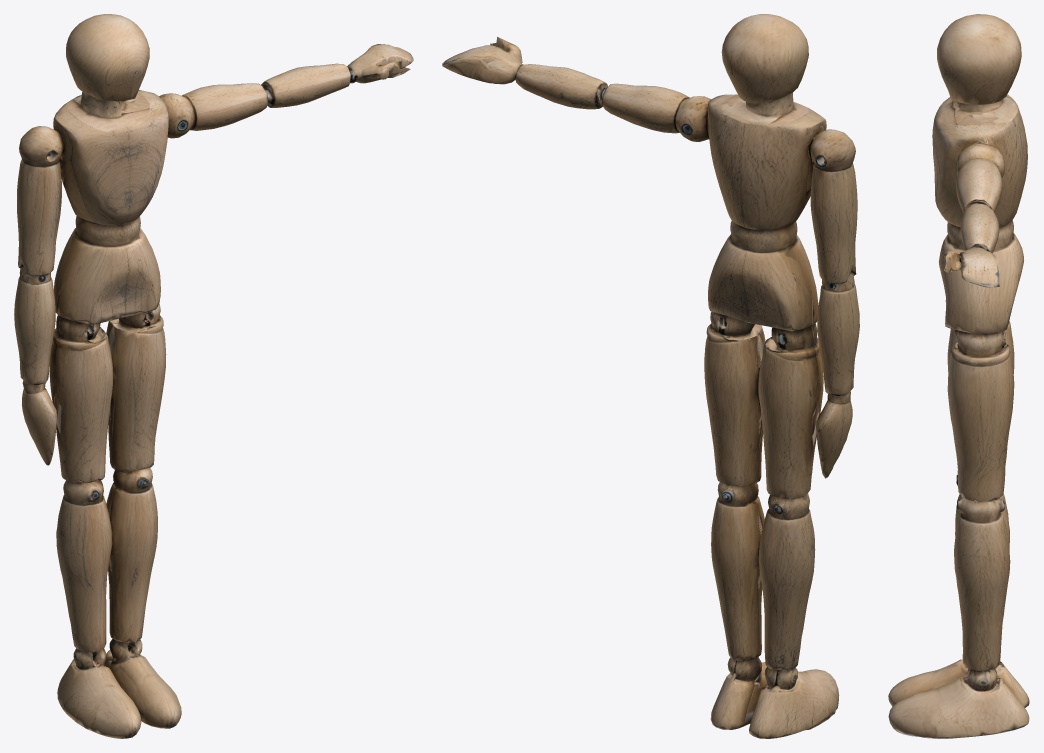
The model's file is VAR_DollRoom_Doll_PointSide.fbx.
3 renders of one model, left to right at view 1: azimuth 30°, elevation 25°; view 2: azimuth 150°, elevation 25°; view 3: azimuth 270°, elevation 25°, orthographic. The views are drawn at different scales.
Parts seen in each view (by area): view 1: texture_mapping; view 2: texture_mapping; view 3: texture_mapping.
Boxes of the visible parts, <box> form: texture_mapping: <box>14,14,413,738</box>; texture_mapping: <box>442,14,859,738</box>; texture_mapping: <box>888,14,1029,738</box>.
Size of the model in its own units: 0.6071 by 0.1831 by 1.
1 material, 1 textured.
